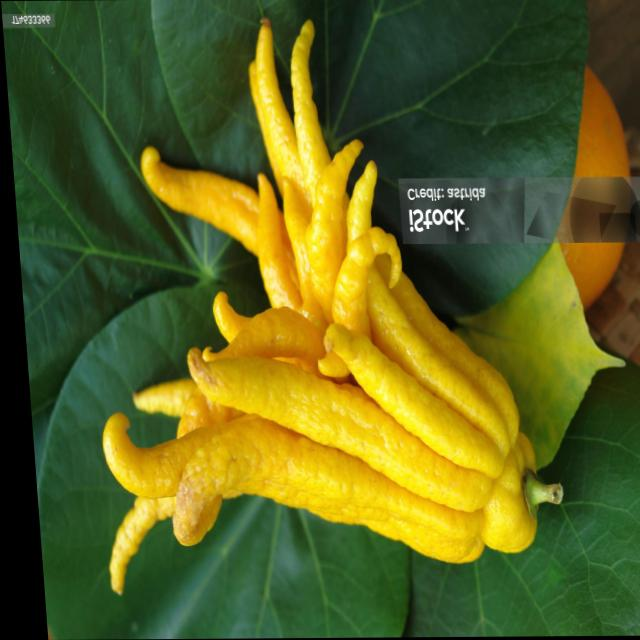PhatThu: (80, 0, 568, 599)
